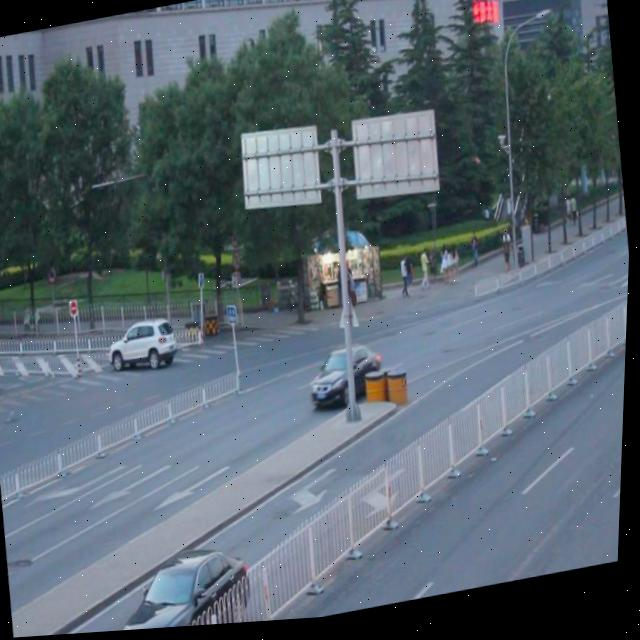car: (117, 538, 261, 633), (308, 341, 388, 414), (107, 312, 182, 380), (0, 351, 2, 393)
